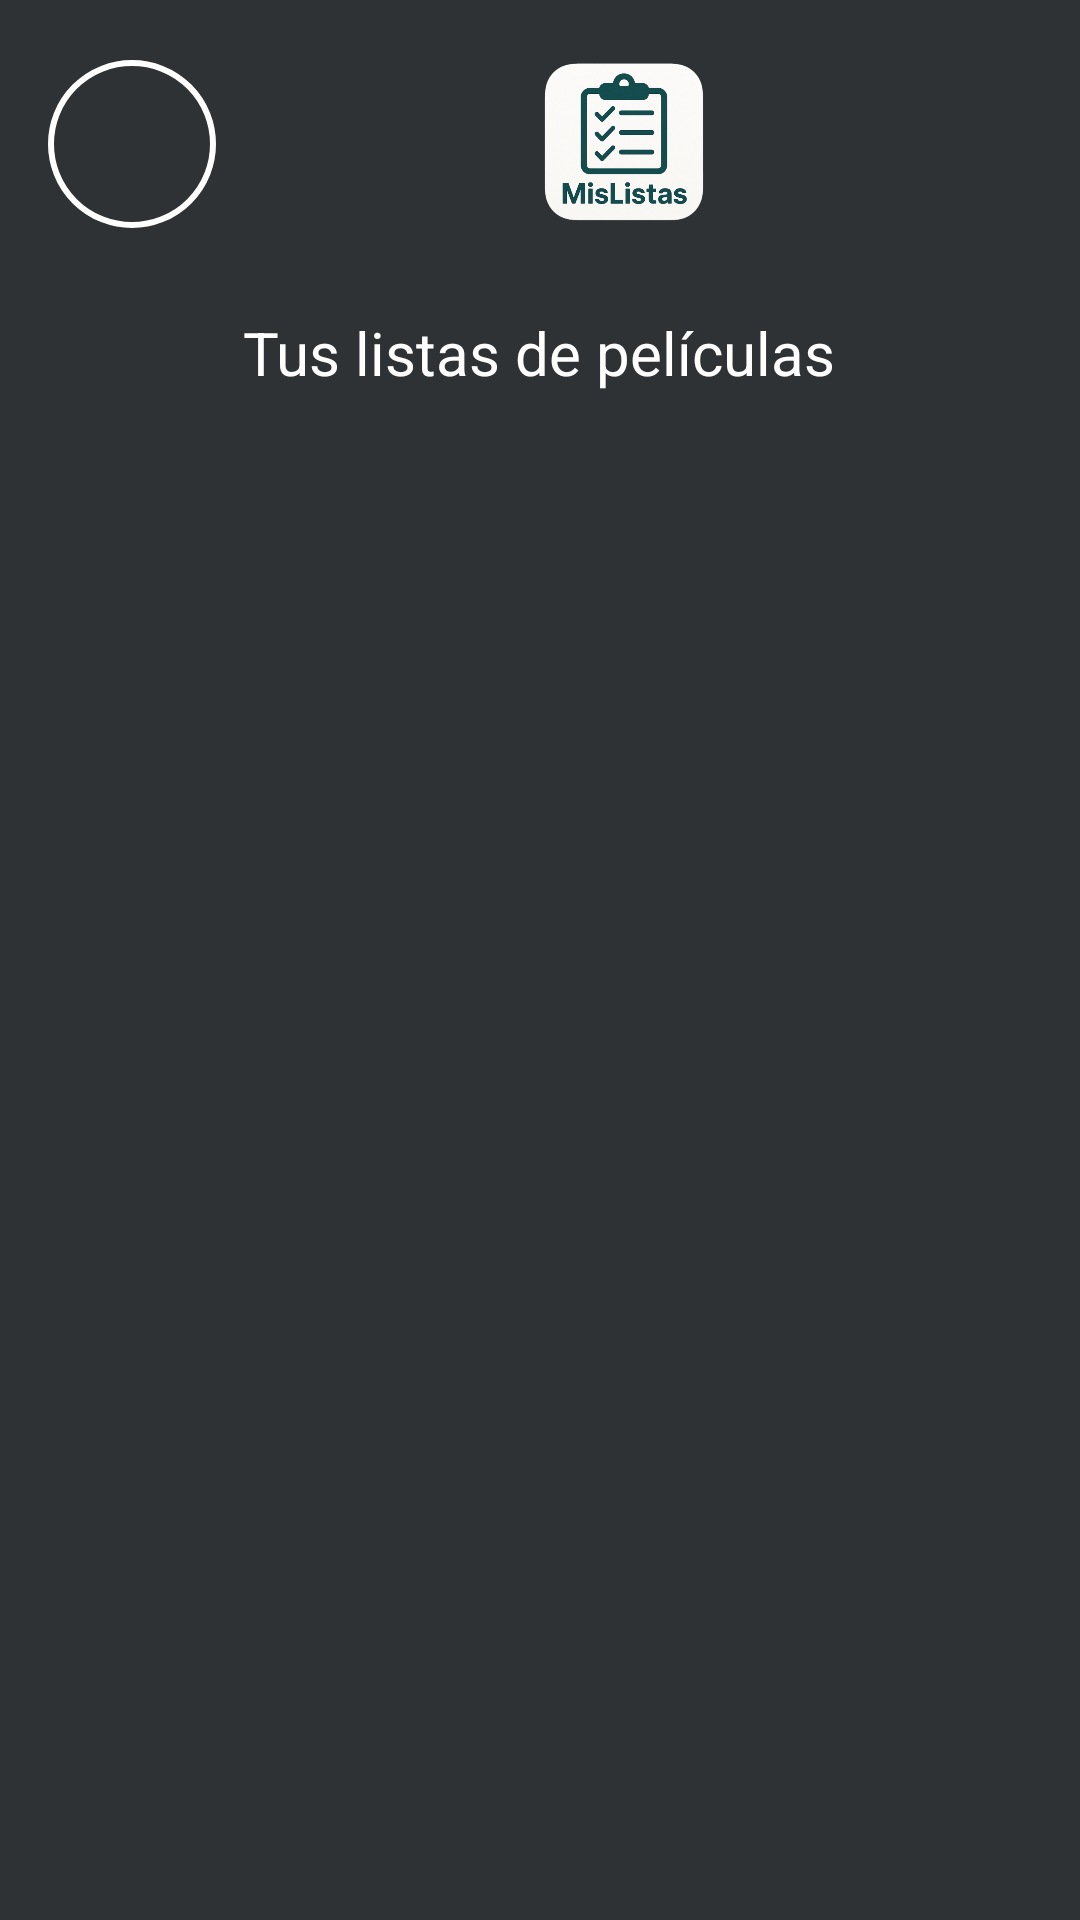

Where icons sit on this 1080w x 1920h app screen, as (x1, y1, x2, y2):
iconapp: (545, 63, 703, 220)
